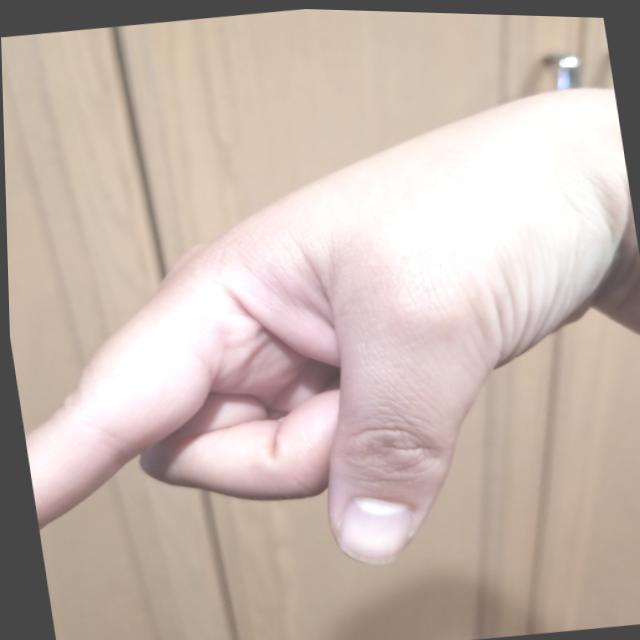Q: (0, 39, 639, 621)
